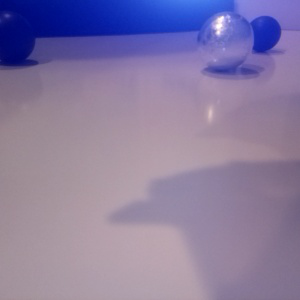alive_ball: (197, 12, 254, 69)
dead_ball: (1, 11, 36, 65), (248, 16, 281, 52)
